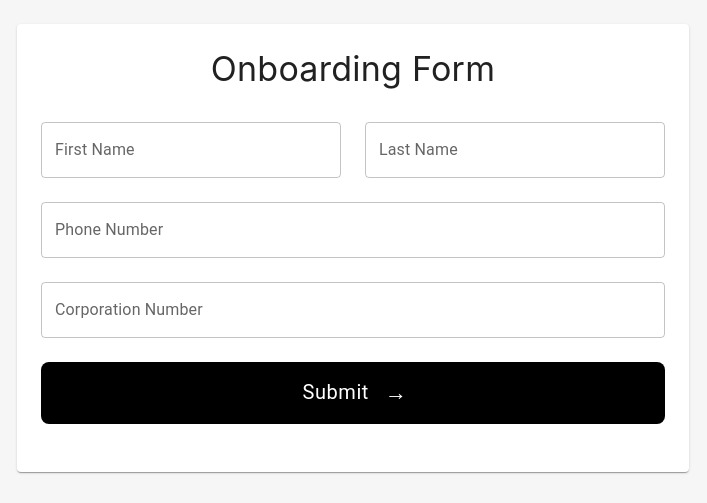
Test: OnboardingForm › prevents submission if corporation number is invalid
Type "123" into the field labelled "Corporation Number" at (353,310), box [41,282,665,338]
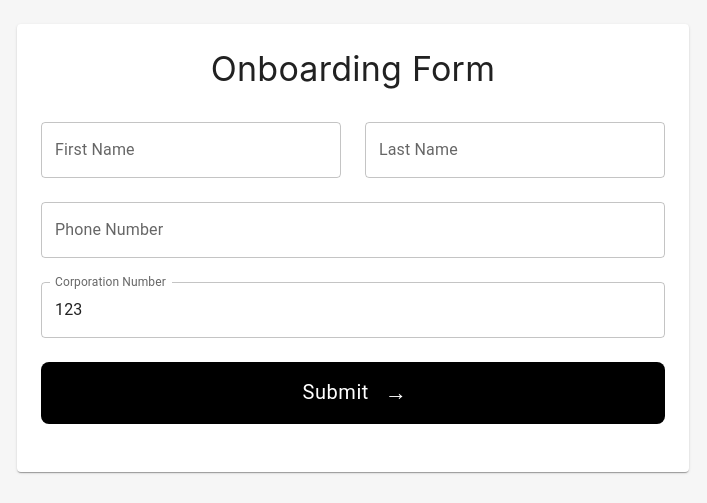
Leave the field labelled "Corporation Number", box [41,282,665,338]
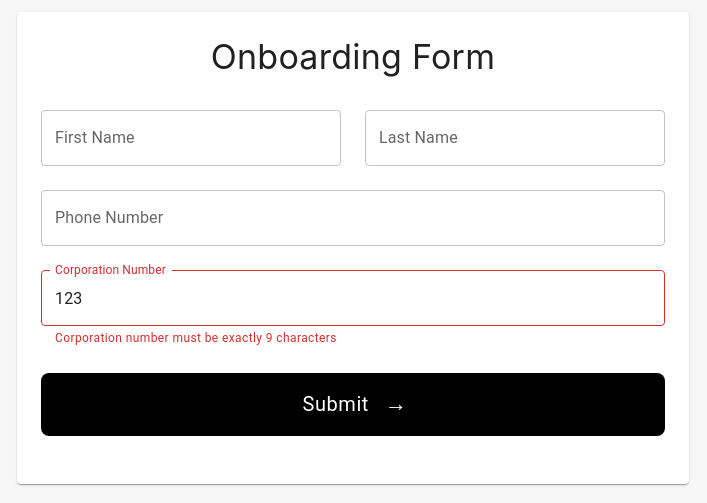
Expected: the text "Corporation number must be exactly 9 characters" is shown, [55,331,337,345]
